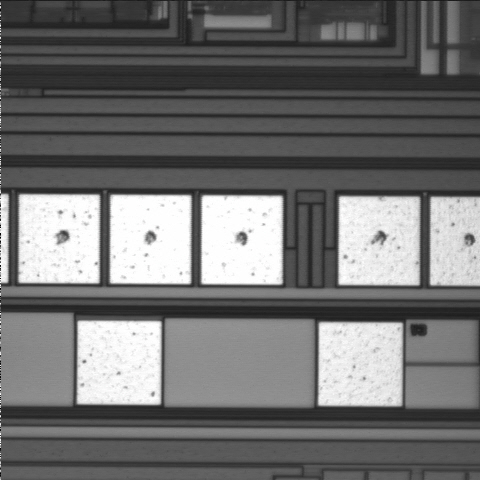pad: (201, 195, 283, 285), (19, 194, 100, 283), (110, 195, 191, 284), (339, 196, 420, 285), (77, 321, 161, 405), (318, 322, 402, 406)
